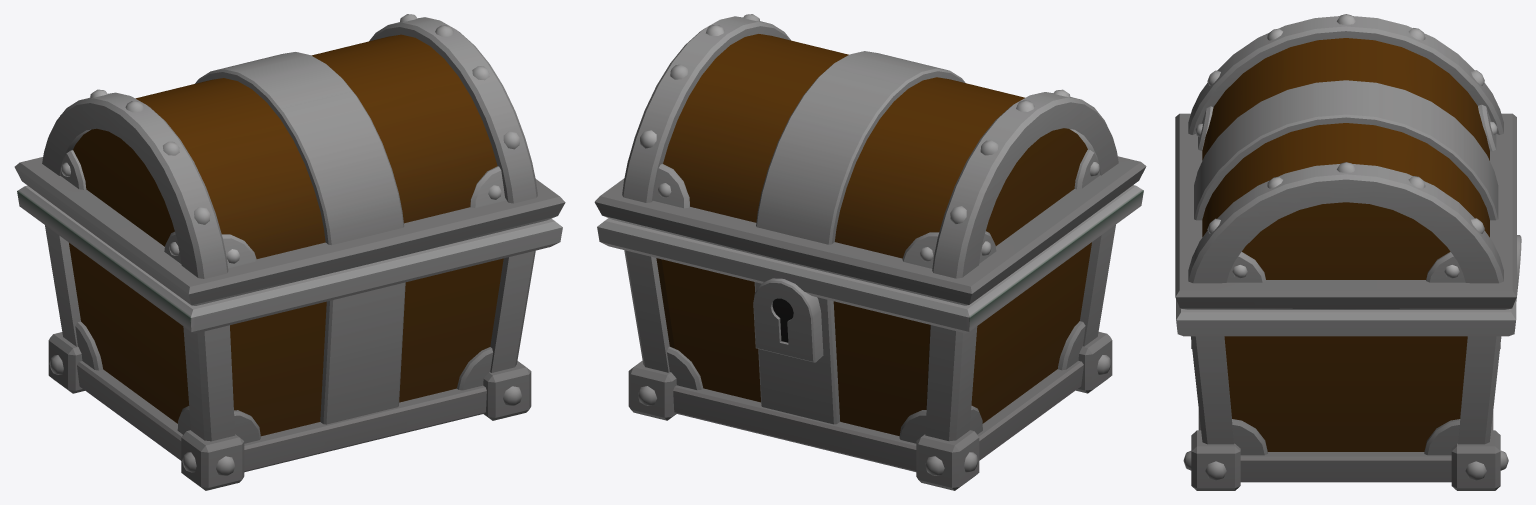
File: chest-static.fbx
3 views of the same model, side by side, from view 1: azimuth 30°, elevation 25°; view 2: azimuth 150°, elevation 25°; view 3: azimuth 270°, elevation 25° (orthographic). The views are drawn at different scales.
Visible parts, largest first — view 1: Cylinder.001; view 2: Cylinder.001; view 3: Cylinder.001.
Boxes of the visible parts, left/top/right/bottom form: Cylinder.001: left=14, top=14, right=565, bottom=490; Cylinder.001: left=594, top=14, right=1146, bottom=490; Cylinder.001: left=1175, top=14, right=1521, bottom=490.
Bounding box in the file's own units: 185 × 156 × 151.
